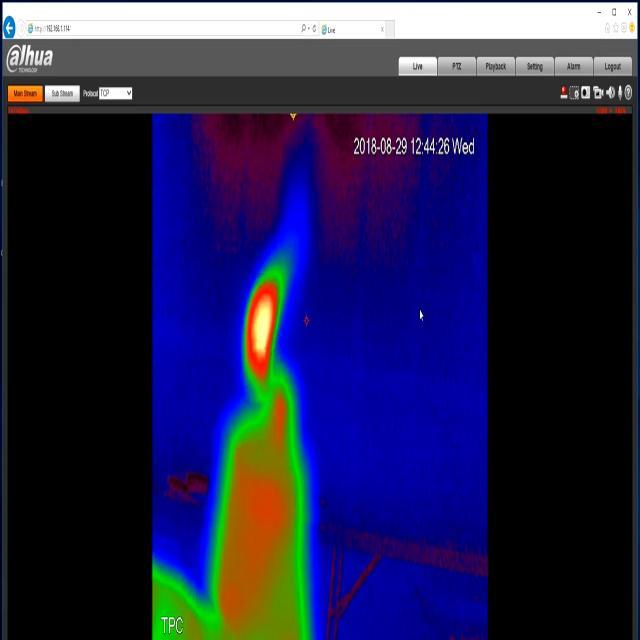fire: (244, 260, 290, 396)
